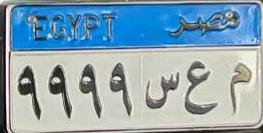9: (108, 59, 138, 118), (46, 61, 75, 121), (77, 58, 102, 121), (16, 65, 42, 124)
س: (143, 65, 181, 113)
ع: (180, 53, 219, 119)
م: (221, 61, 251, 118)
